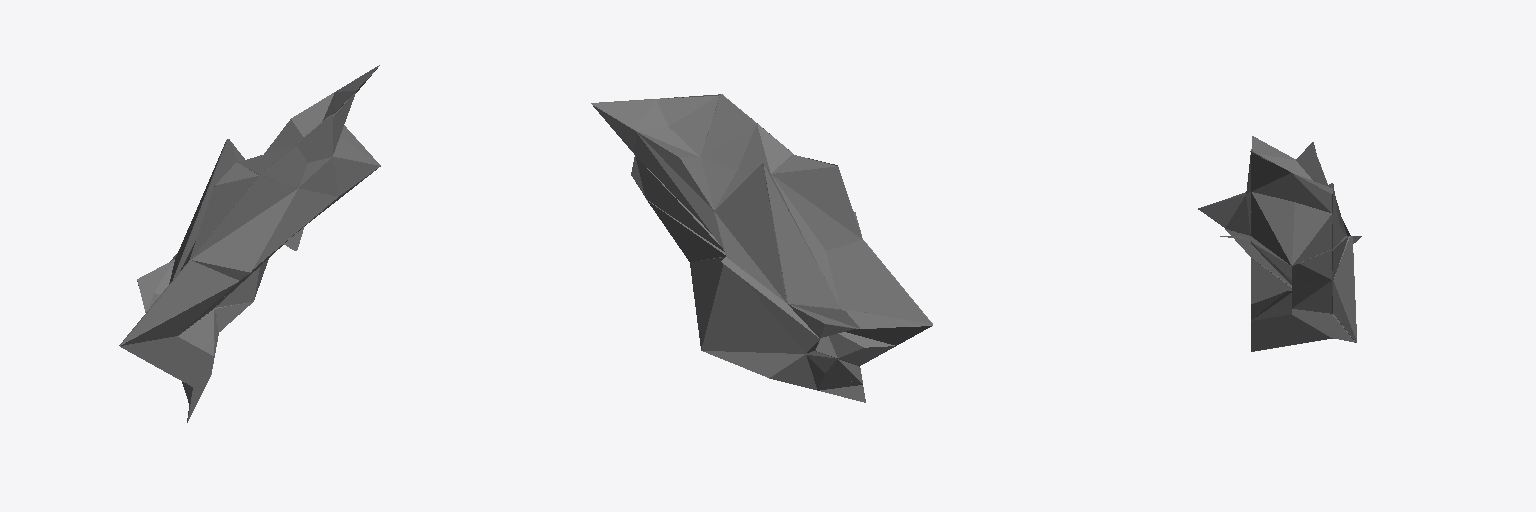
File: Glass_Shard_1_thicker.obj
3 views of the same model, side by side, from view 1: azimuth 30°, elevation 25°; view 2: azimuth 150°, elevation 25°; view 3: azimuth 270°, elevation 25° (orthographic).
Visible parts, largest first — view 1: pCube1; view 2: pCube1; view 3: pCube1.
Boxes of the visible parts, box(x1,y1,x2,y2) form: pCube1: box(119, 65, 380, 422); pCube1: box(591, 94, 932, 402); pCube1: box(1198, 136, 1361, 351).
Size of the model in its own units: 11.68 by 10.12 by 5.53.